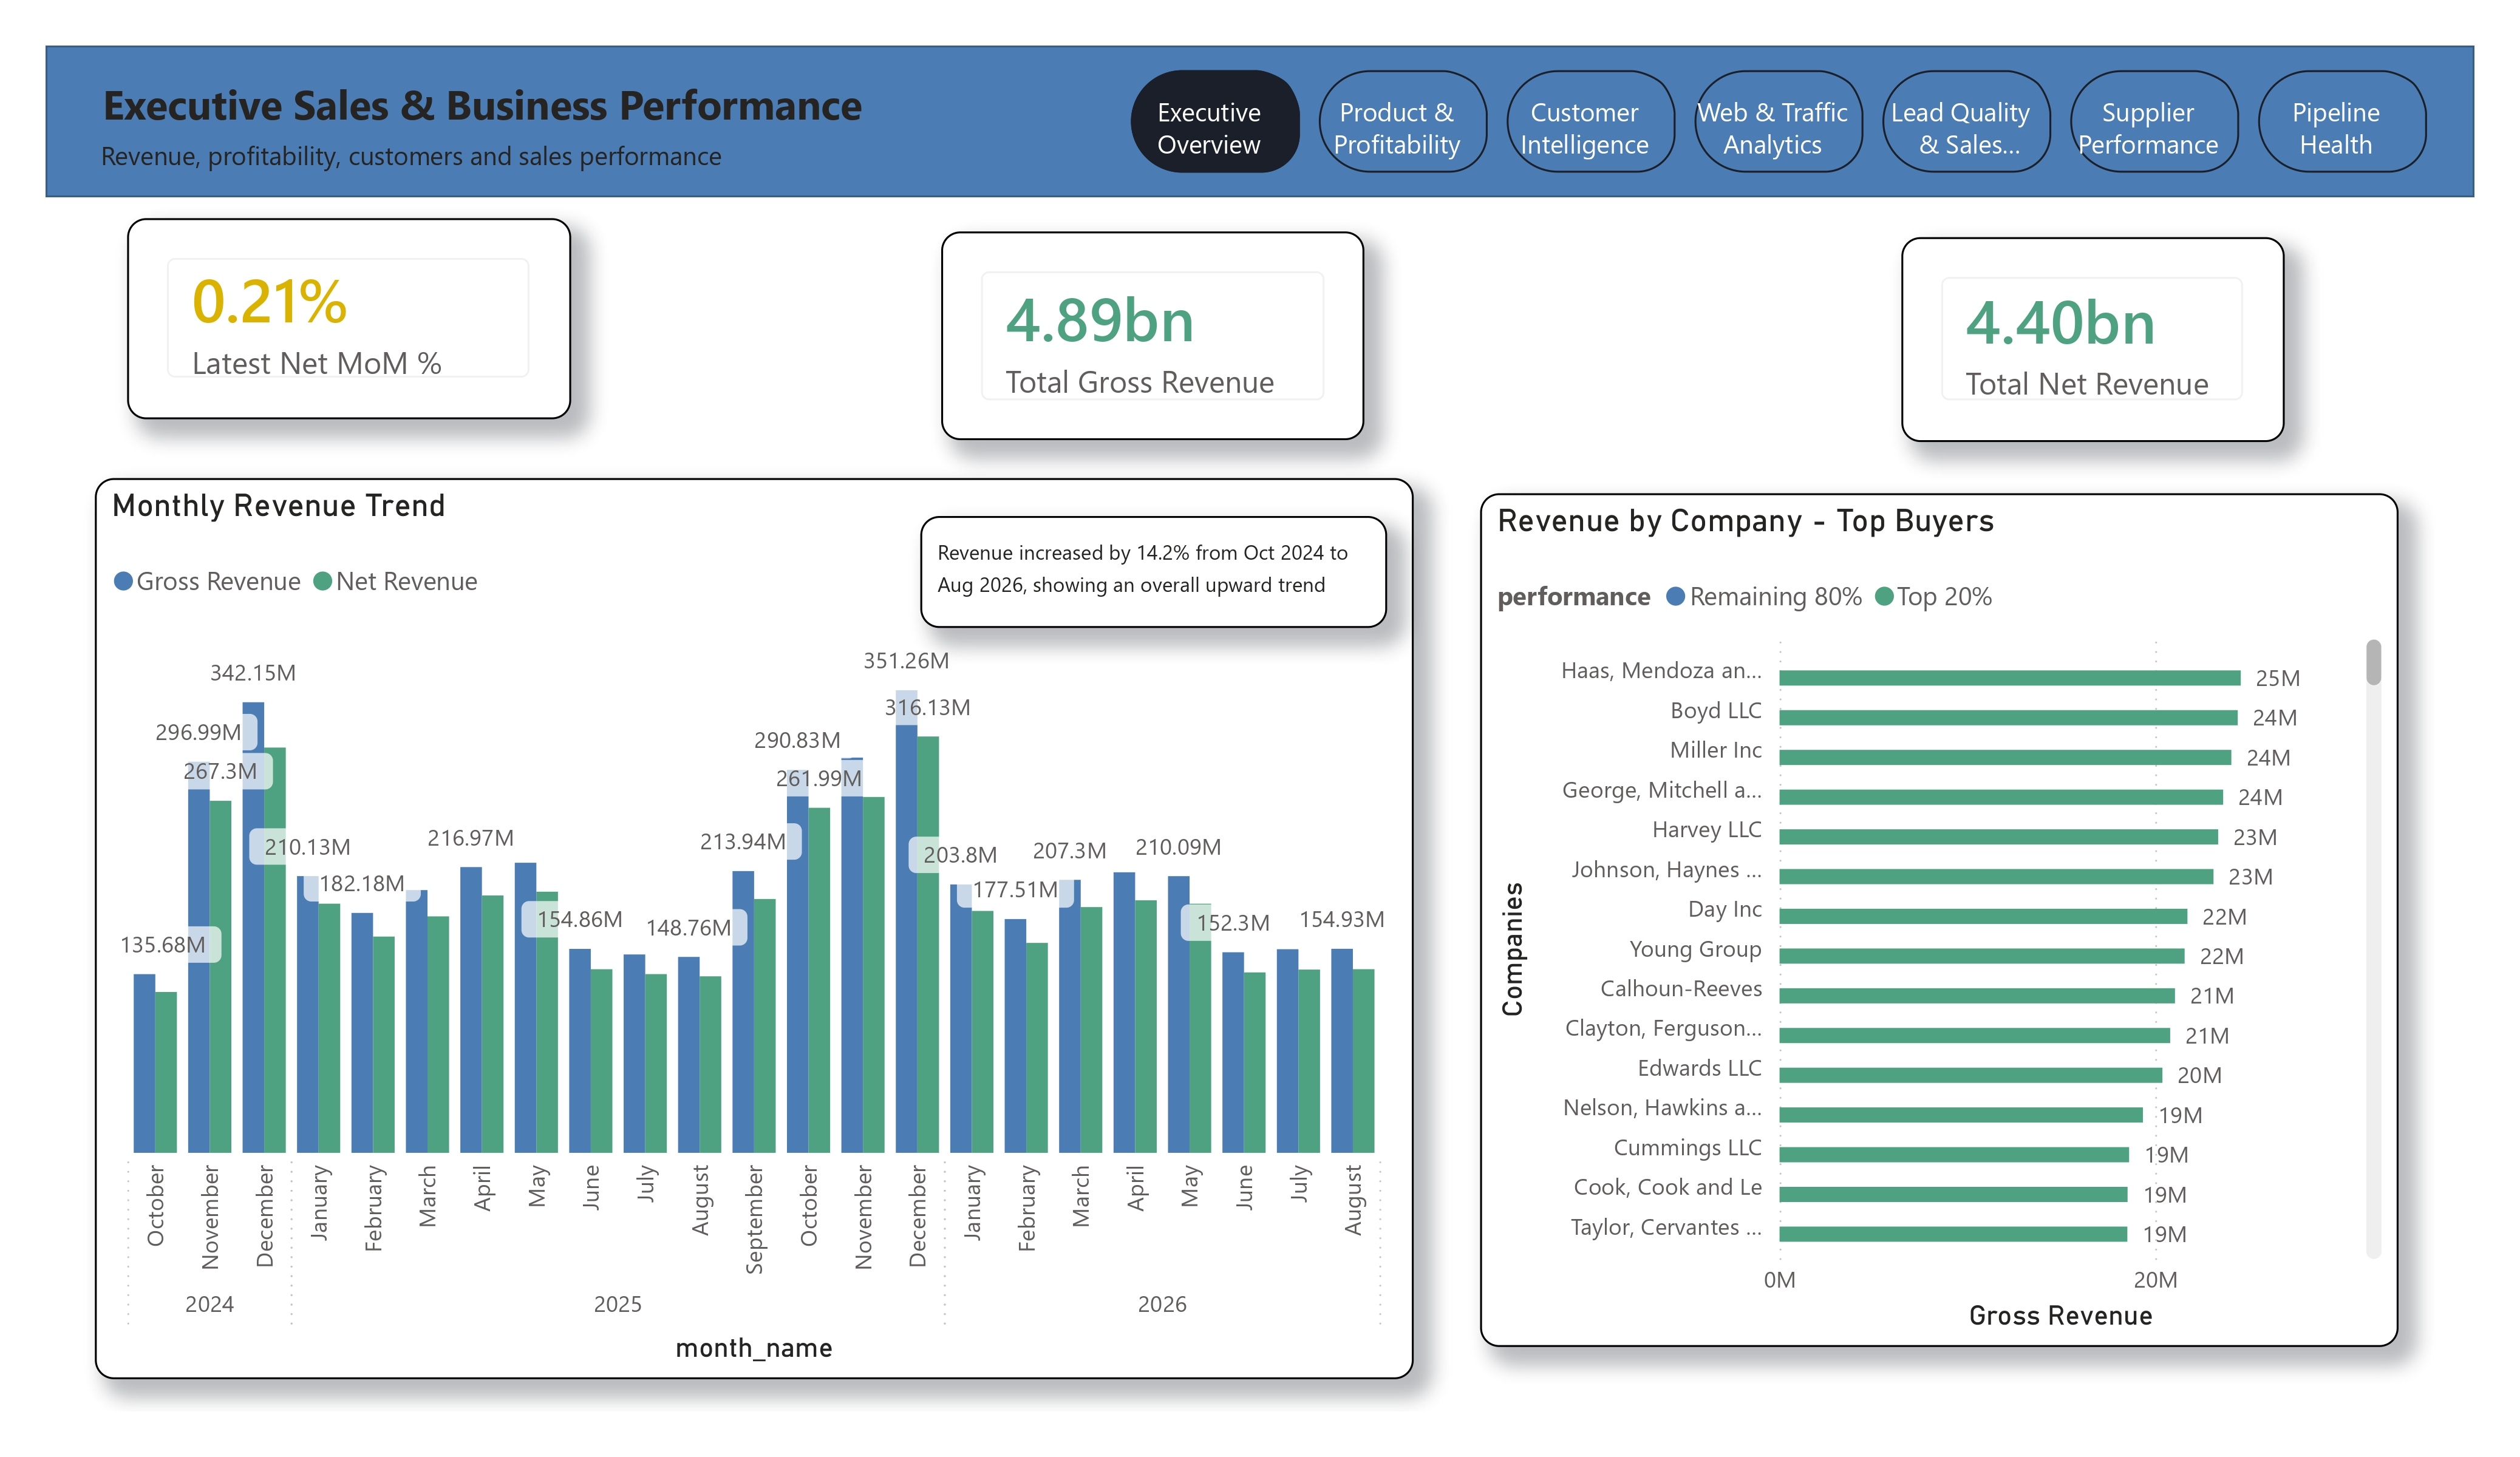

The dashboard page shown, as its layout file describes it:
{"tool":"powerbi","page":{"name":"Executive Overview","canvas":[1280,720],"ordinal":0},"visuals":[{"type":"shape","box":[0,0,1280,80],"z":0},{"type":"cardVisual","fields":{"Data":["Measure.Total Revenue"]},"box":[472.1,97.7,223.3,110.5],"z":1000},{"type":"cardVisual","fields":{"Data":["Measure.Total Revenue"]},"box":[977.9,101.2,201.7,107.4],"z":2000},{"type":"lineClusteredColumnComboChart","title":"Monthly Revenue Trend","fields":{"Category":["marts vw_monthly_revenue_trend.year","marts vw_monthly_revenue_trend.month_name"],"Y":["Sum(marts vw_monthly_revenue_trend.gross_revenue)","Sum(marts vw_monthly_revenue_trend.net_revenue)"]},"box":[25.6,228.2,694.9,474.4],"z":3000},{"type":"cardVisual","fields":{"Data":["Measure.Latest Net MoM %"]},"box":[43,90.7,233.7,105.8],"z":4000},{"type":"clusteredBarChart","title":"Revenue by Company - Top Buyers","fields":{"Category":["marts vw_revenue_by_company.company_name"],"Series":["marts vw_revenue_by_company.performance"],"Y":["Sum(marts vw_revenue_by_company.gross_revenue)"]},"box":[755.8,236,483.7,450],"z":5000},{"type":"textbox","box":[24.9,10.7,447.7,56.8],"z":6000},{"type":"textbox","box":[24.4,44.2,679.1,36],"z":7000},{"type":"pageNavigator","box":[572.1,12.8,688.4,54.7],"z":8000},{"type":"textbox","box":[460.7,247.5,246.3,59.2],"z":15000}]}

Visuals, with their boxes on the page's 1280x720 design canvas (x1, y1, x2, y2). These are canvas units, not pixel positions in the 2520x1457 screenshot, which may show the page scaled, cropped or inside an application window:
shape: x1=0, y1=0, x2=1280, y2=80
cardVisual - Measure.Total Revenue: x1=472, y1=98, x2=695, y2=208
cardVisual - Measure.Total Revenue: x1=978, y1=101, x2=1180, y2=209
"Monthly Revenue Trend" lineClusteredColumnComboChart: x1=26, y1=228, x2=720, y2=703
cardVisual - Measure.Latest Net MoM %: x1=43, y1=91, x2=277, y2=196
"Revenue by Company - Top Buyers" clusteredBarChart: x1=756, y1=236, x2=1240, y2=686
textbox: x1=25, y1=11, x2=473, y2=68
textbox: x1=24, y1=44, x2=704, y2=80
pageNavigator: x1=572, y1=13, x2=1260, y2=68
textbox: x1=461, y1=248, x2=707, y2=307
